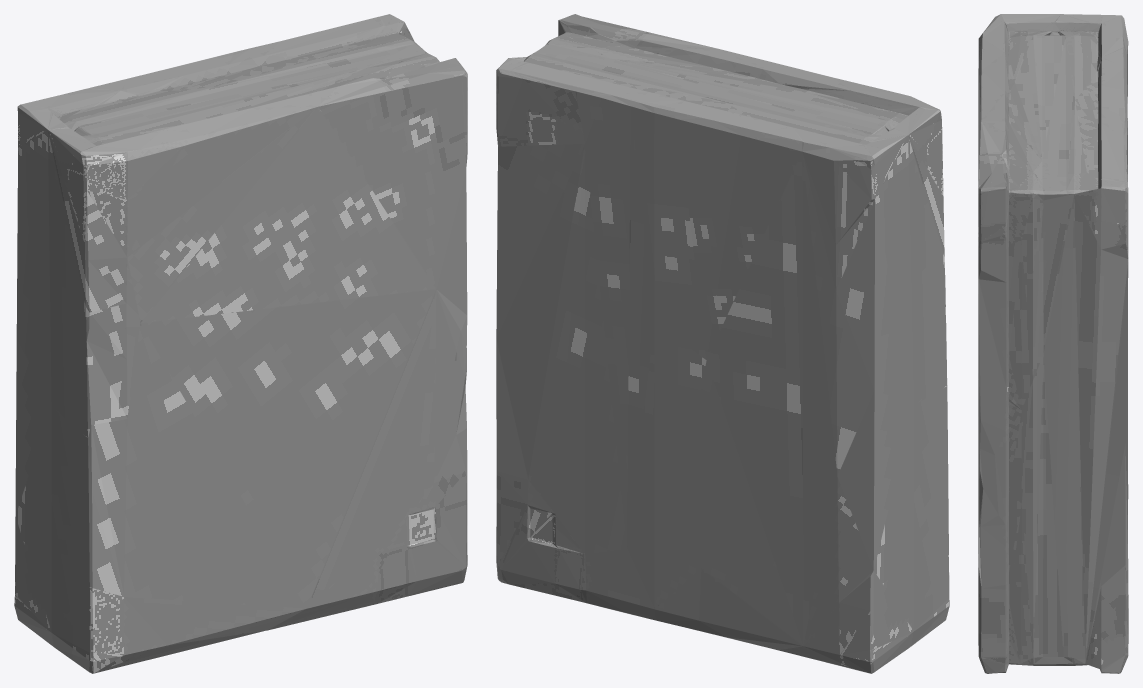
3 views of the same model, side by side, from view 1: azimuth 30°, elevation 25°; view 2: azimuth 150°, elevation 25°; view 3: azimuth 270°, elevation 25° (orthographic). The views are drawn at different scales.
Visible parts, largest first — view 1: OBJ114; view 2: OBJ114; view 3: OBJ114.
Part boxes in pixels (x1,y1,x2,y2): OBJ114: (14, 14, 467, 673); OBJ114: (496, 14, 949, 673); OBJ114: (978, 14, 1128, 673).
Bounding box in the file's own units: 0.2456 × 0.3193 × 0.0892.
1 material, 1 textured.
